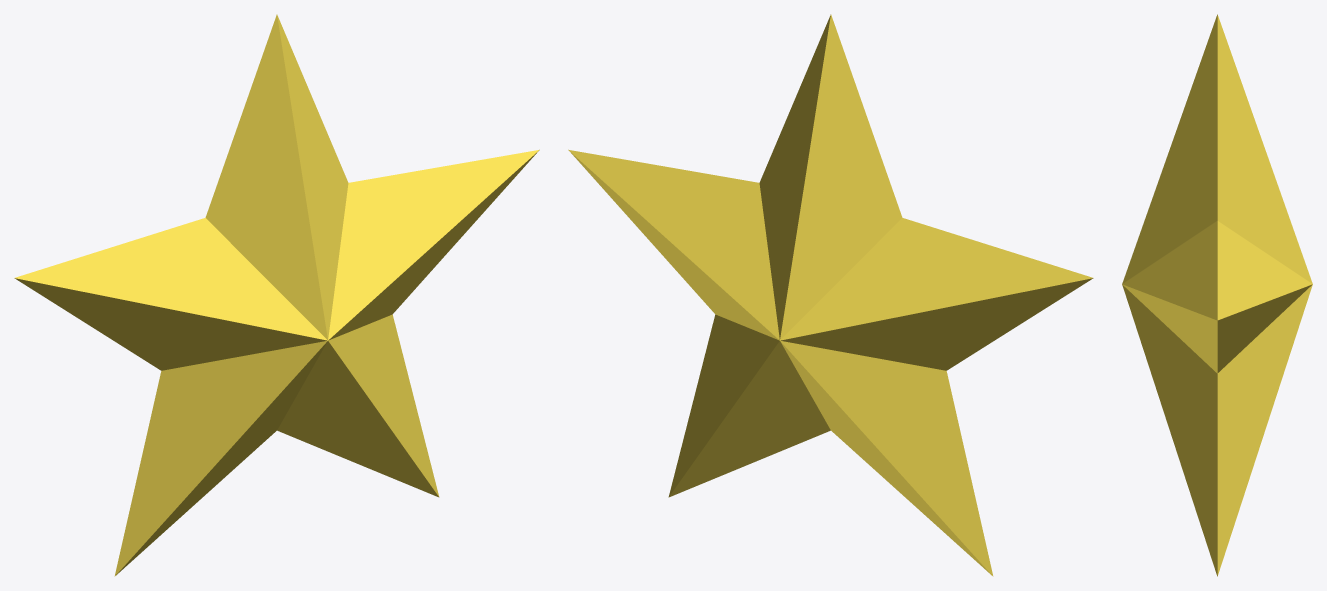
File: PickupStar.fbx
3 renders of one model, left to right at view 1: azimuth 30°, elevation 25°; view 2: azimuth 150°, elevation 25°; view 3: azimuth 270°, elevation 25°, orthographic. The views are drawn at different scales.
Parts seen in each view (by area): view 1: PickupStar; view 2: PickupStar; view 3: PickupStar.
Boxes of the visible parts, x1,y1,x2,y2 form: PickupStar: (14, 14, 539, 576); PickupStar: (568, 14, 1093, 576); PickupStar: (1122, 14, 1312, 576).
Size of the model in its own units: 0.9511 by 0.32 by 0.9045.
